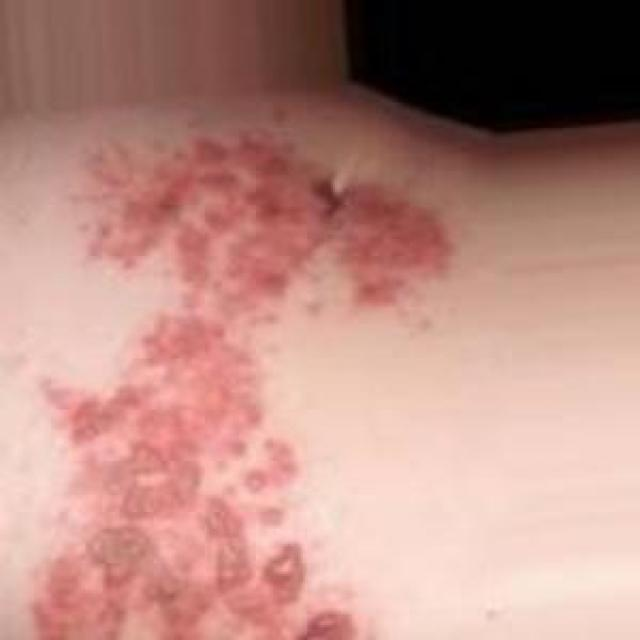Shingles: (32, 131, 454, 640)
